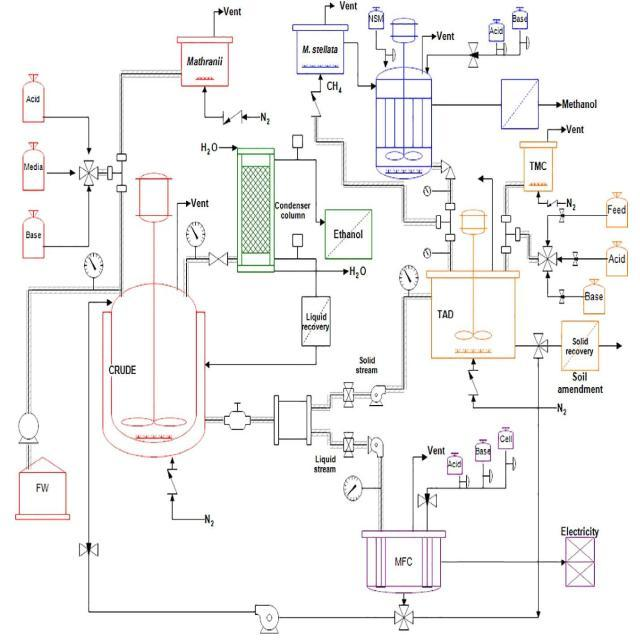3 Way Gate Valve: (530, 320, 554, 364)
4 Way Gate Valve: (394, 601, 421, 640), (534, 240, 560, 276), (78, 156, 99, 189)
Centrifugal Pump: (240, 582, 286, 640), (363, 428, 388, 468), (364, 378, 391, 409)
Check Valve: (306, 90, 334, 126), (162, 464, 180, 502), (467, 364, 484, 402), (220, 106, 244, 130)
Gate Valve: (206, 248, 234, 274)
Needle Valve: (68, 526, 105, 565), (462, 32, 482, 72), (416, 486, 440, 508), (556, 280, 572, 311), (568, 246, 584, 268), (556, 207, 570, 230)
Plug Valve: (340, 370, 358, 410), (339, 428, 359, 460)
